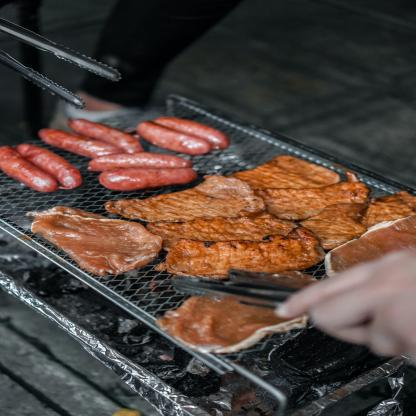Carne: (169, 225, 329, 277), (118, 172, 258, 218), (150, 216, 306, 242), (258, 184, 370, 216), (300, 197, 370, 247), (241, 155, 338, 190)
